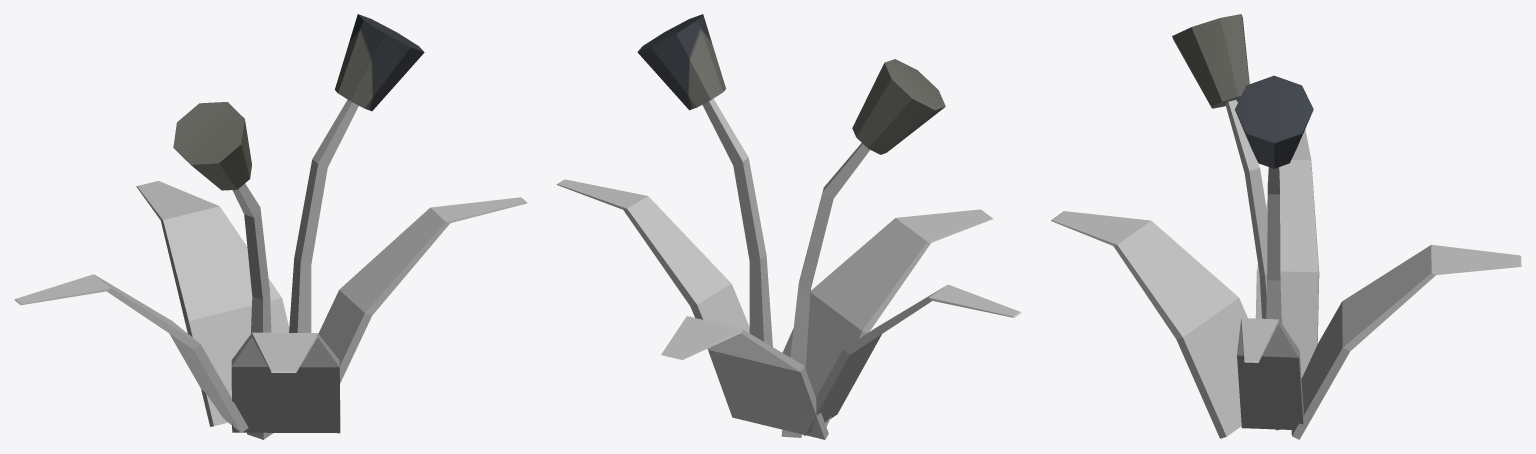
File: Flower_09.fbx
The picture shows the model from 3 angles, left to right: view 1: azimuth 30°, elevation 25°; view 2: azimuth 150°, elevation 25°; view 3: azimuth 270°, elevation 25°; orthographic projection. The views are drawn at different scales.
Parts seen in each view (by area): view 1: Flower_09; view 2: Flower_09; view 3: Flower_09.
Boxes of the visible parts, <box> form: Flower_09: <box>14,14,527,439</box>; Flower_09: <box>556,14,1021,439</box>; Flower_09: <box>1051,14,1521,439</box>.
Bounding box in the file's own units: 1.21 × 0.933 × 0.9977.
